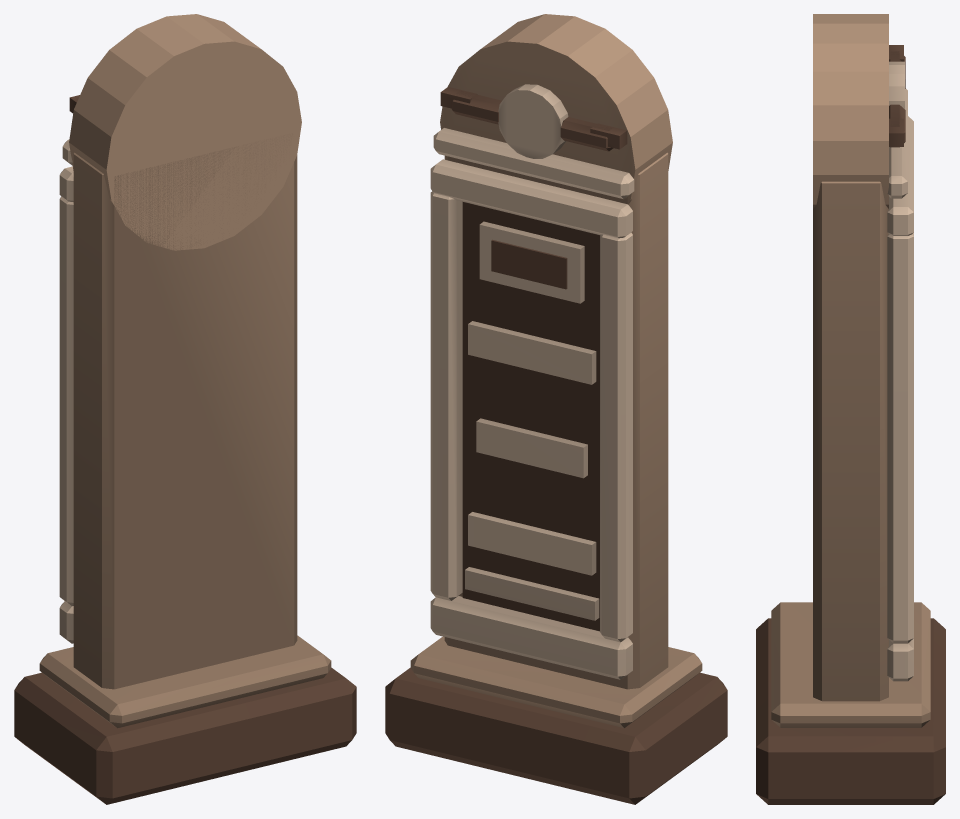
File: stele.glb
The picture shows the model from 3 angles, left to right: view 1: azimuth 30°, elevation 25°; view 2: azimuth 150°, elevation 25°; view 3: azimuth 270°, elevation 25°; orthographic projection.
Visible parts, largest first — view 1: stele_stele_stone, stele_stele_sunk, stele_stele_dressed; view 2: stele_stele_dressed, stele_stele_sunk, stele_stele_stone; view 3: stele_stele_stone, stele_stele_sunk, stele_stele_dressed.
Part boxes in pixels (bbox=[...]): stele_stele_stone: bbox=[39, 14, 331, 728]; stele_stele_sunk: bbox=[14, 95, 356, 804]; stele_stele_dressed: bbox=[59, 139, 73, 643]; stele_stele_dressed: bbox=[430, 84, 634, 679]; stele_stele_sunk: bbox=[385, 87, 727, 804]; stele_stele_stone: bbox=[410, 14, 702, 728]; stele_stele_stone: bbox=[771, 14, 930, 727]; stele_stele_sunk: bbox=[756, 45, 945, 804]; stele_stele_dressed: bbox=[887, 61, 913, 681].
Bounding box in the file's own units: 0.4 × 1.05 × 0.25.
